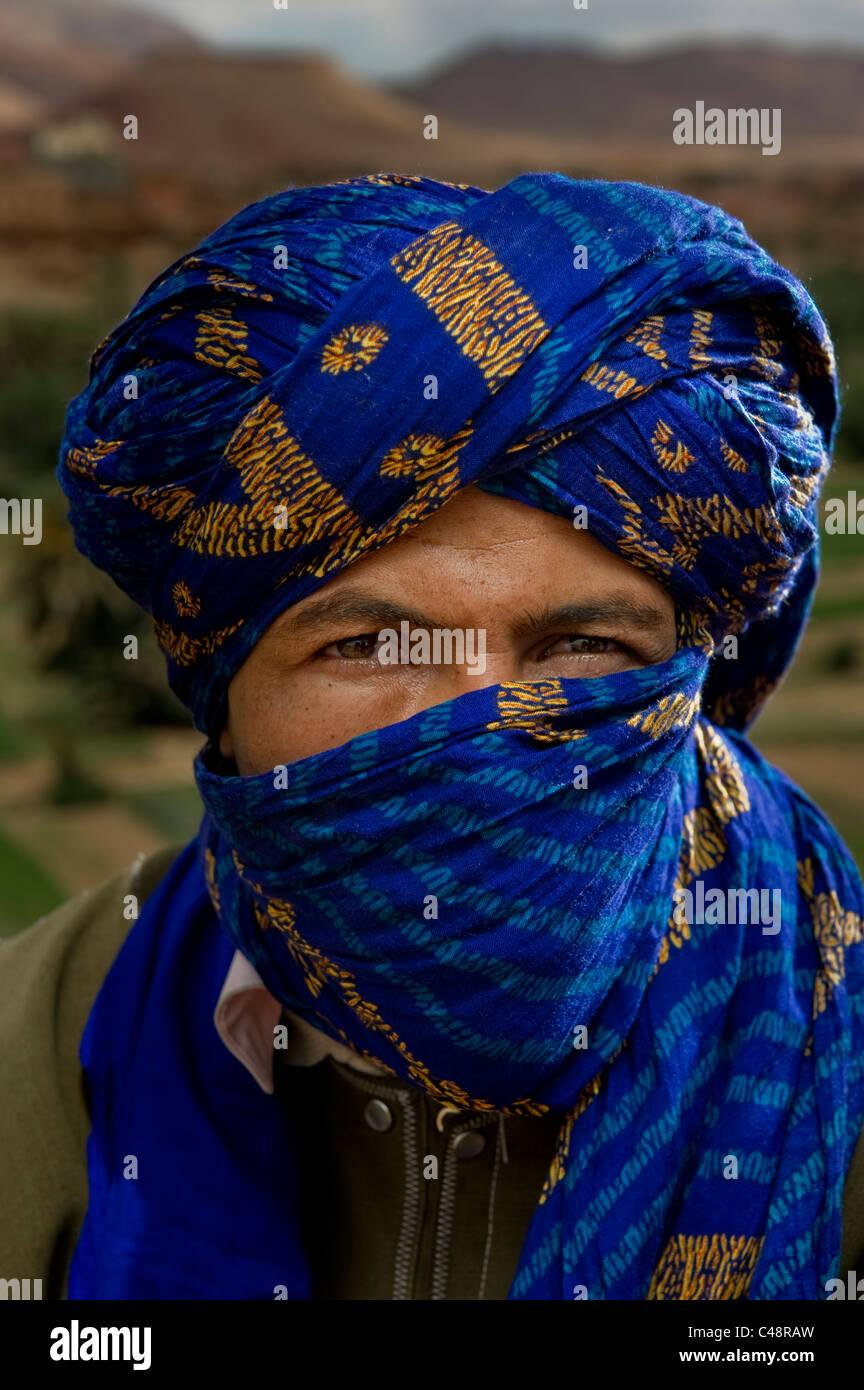cap: (37, 127, 864, 657)
scarf-kerchief: (167, 653, 864, 1107)
